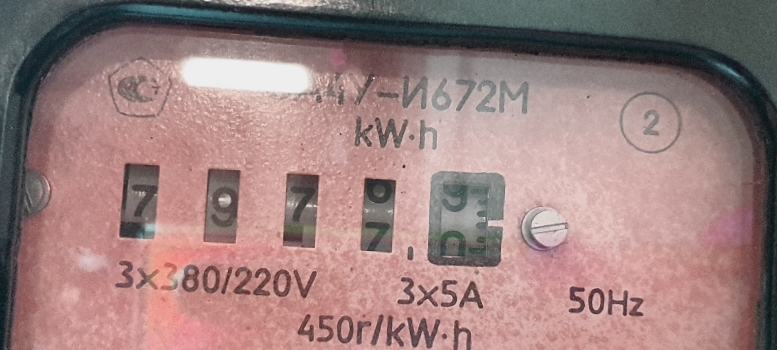0: (436, 223, 470, 263)
7: (285, 181, 317, 225), (127, 179, 158, 223), (361, 217, 392, 254)
9: (206, 182, 241, 229), (439, 176, 471, 213)
screen: (98, 139, 531, 289)
